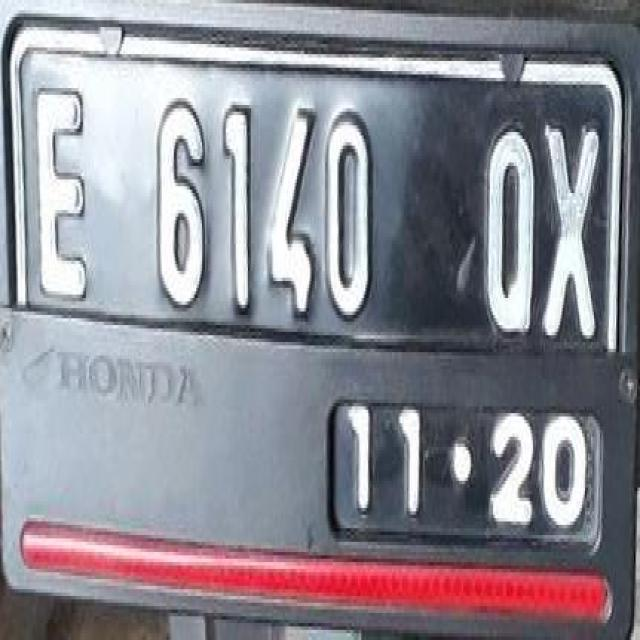0: (324, 75, 381, 337)
1: (217, 78, 262, 324)
4: (262, 78, 323, 330)
6: (148, 78, 210, 314)
E: (27, 71, 96, 310)
Q: (478, 105, 537, 342)
X: (541, 110, 605, 344)
